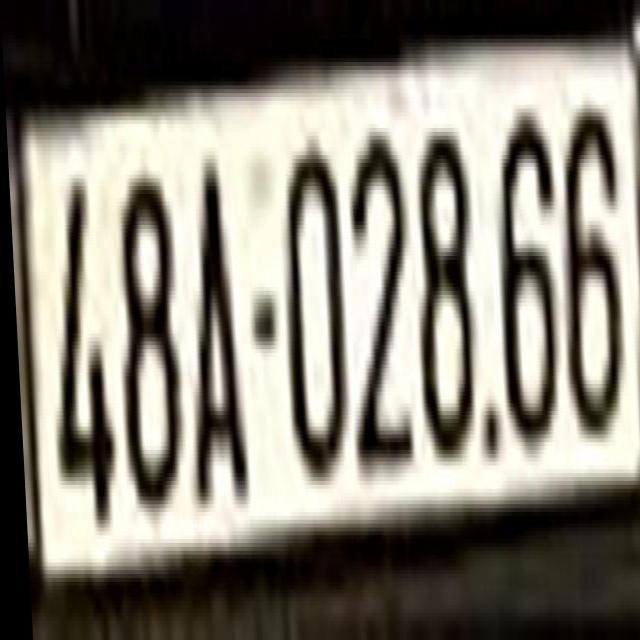0: (275, 140, 348, 484)
2: (339, 144, 415, 478)
4: (38, 163, 113, 512)
6: (490, 108, 559, 466), (556, 93, 624, 438)
8: (104, 163, 181, 512), (406, 117, 475, 470)
A: (171, 163, 245, 512)
